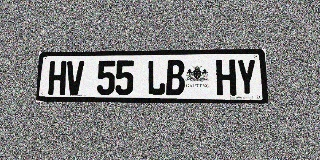5: (115, 60, 134, 95), (97, 61, 116, 95)
B: (166, 60, 185, 95)
H: (216, 59, 236, 96), (48, 61, 67, 95)
L: (147, 60, 165, 95)
V: (65, 61, 84, 95)
Y: (236, 59, 257, 96)
